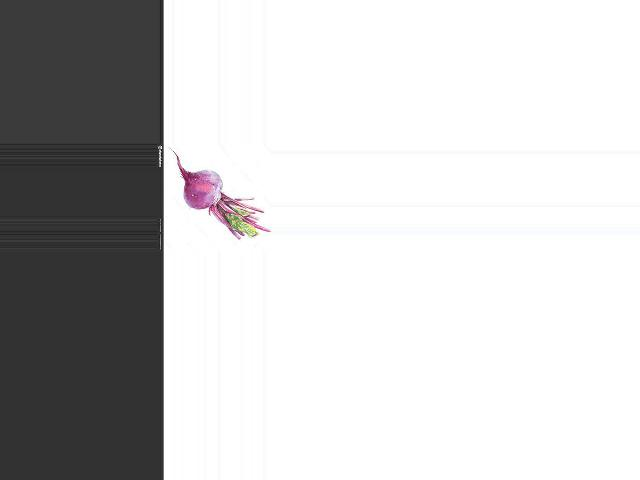beet: (168, 147, 271, 239)
